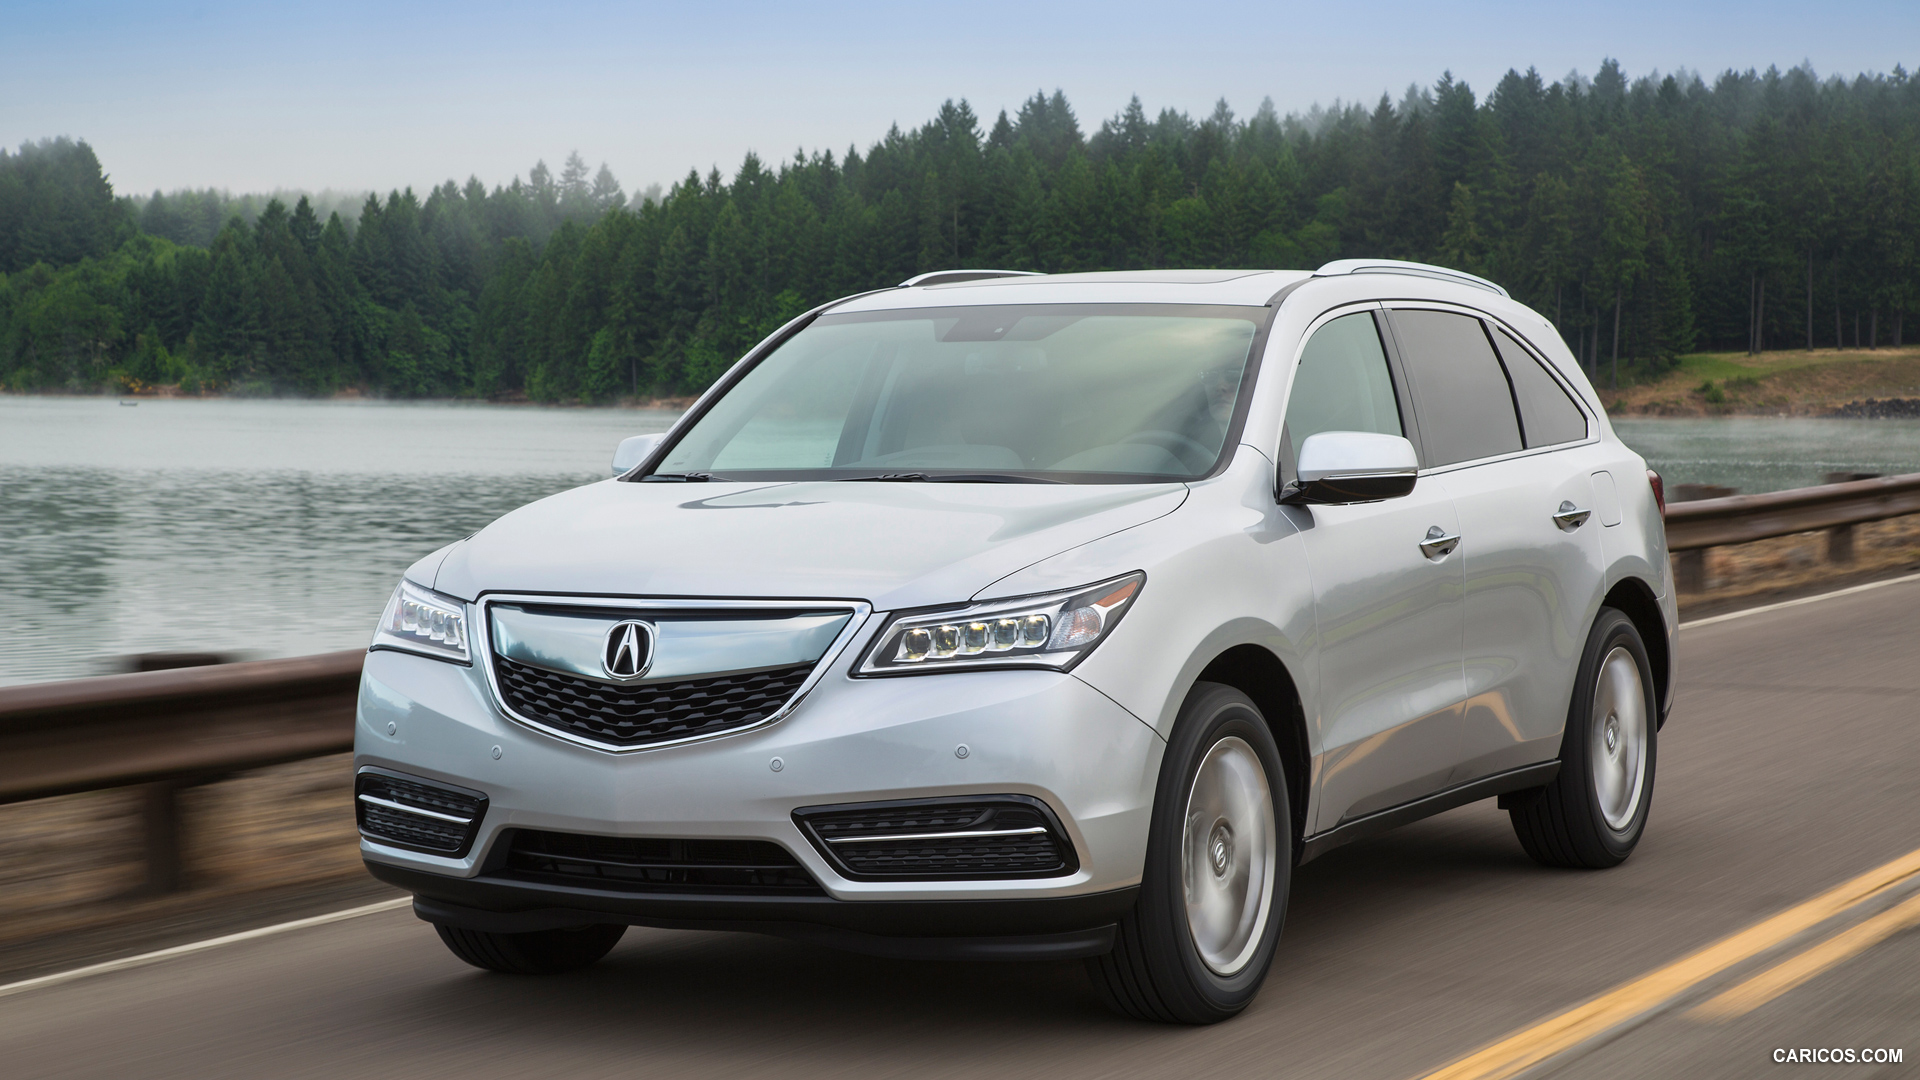Fog Lamp & Scope: (827, 793, 1075, 887)
Front: (352, 483, 1224, 891)
Front Bumper: (351, 738, 1160, 903)
Grill: (484, 607, 855, 745)
Headlight: (869, 578, 1145, 679)
